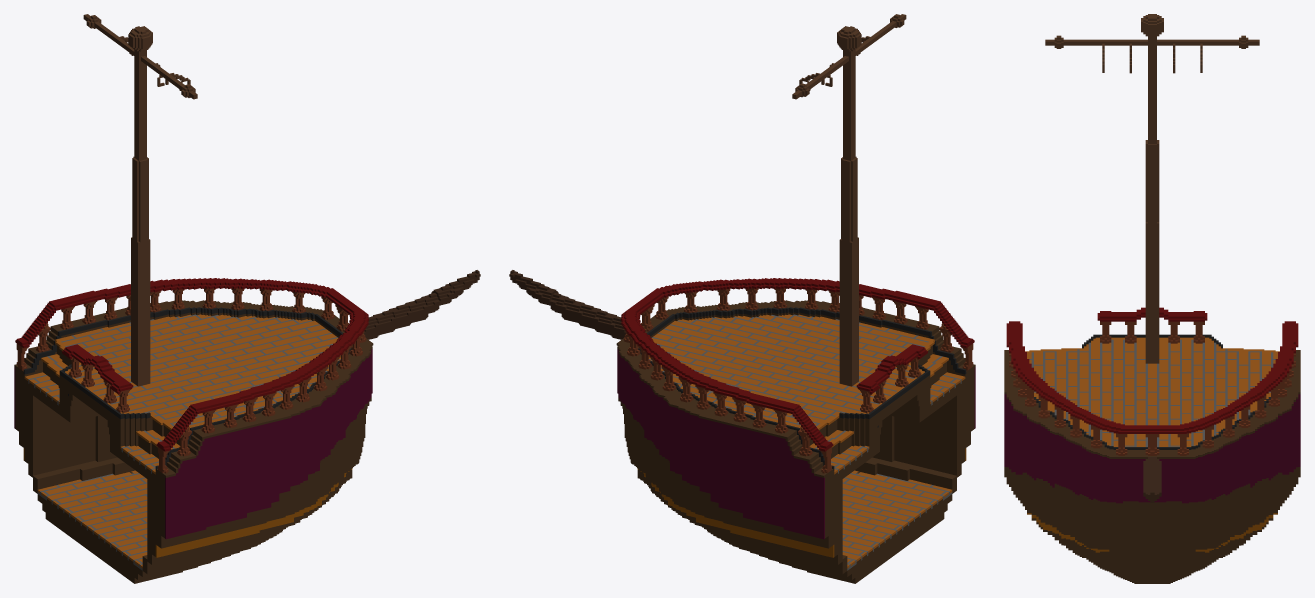
Rendered from enemyship-4.obj.
3 views of the same model, side by side, from view 1: azimuth 30°, elevation 25°; view 2: azimuth 150°, elevation 25°; view 3: azimuth 270°, elevation 25° (orthographic). The views are drawn at different scales.
Bounding box in the file's own units: 19.2 × 24.1 × 13.
1 material, 1 textured.
